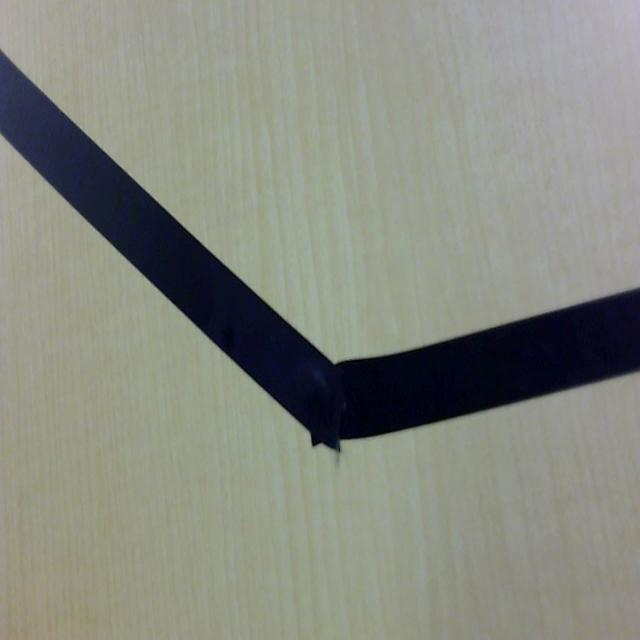tape: (0, 24, 640, 483)
